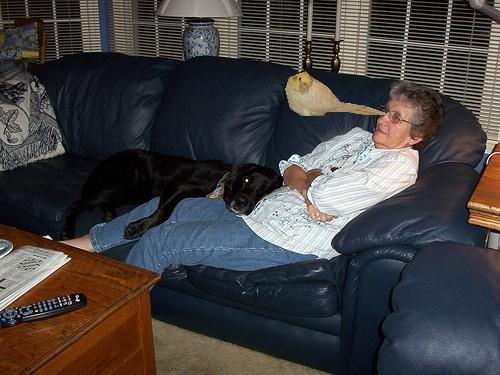tampered: (286, 72, 393, 116)
